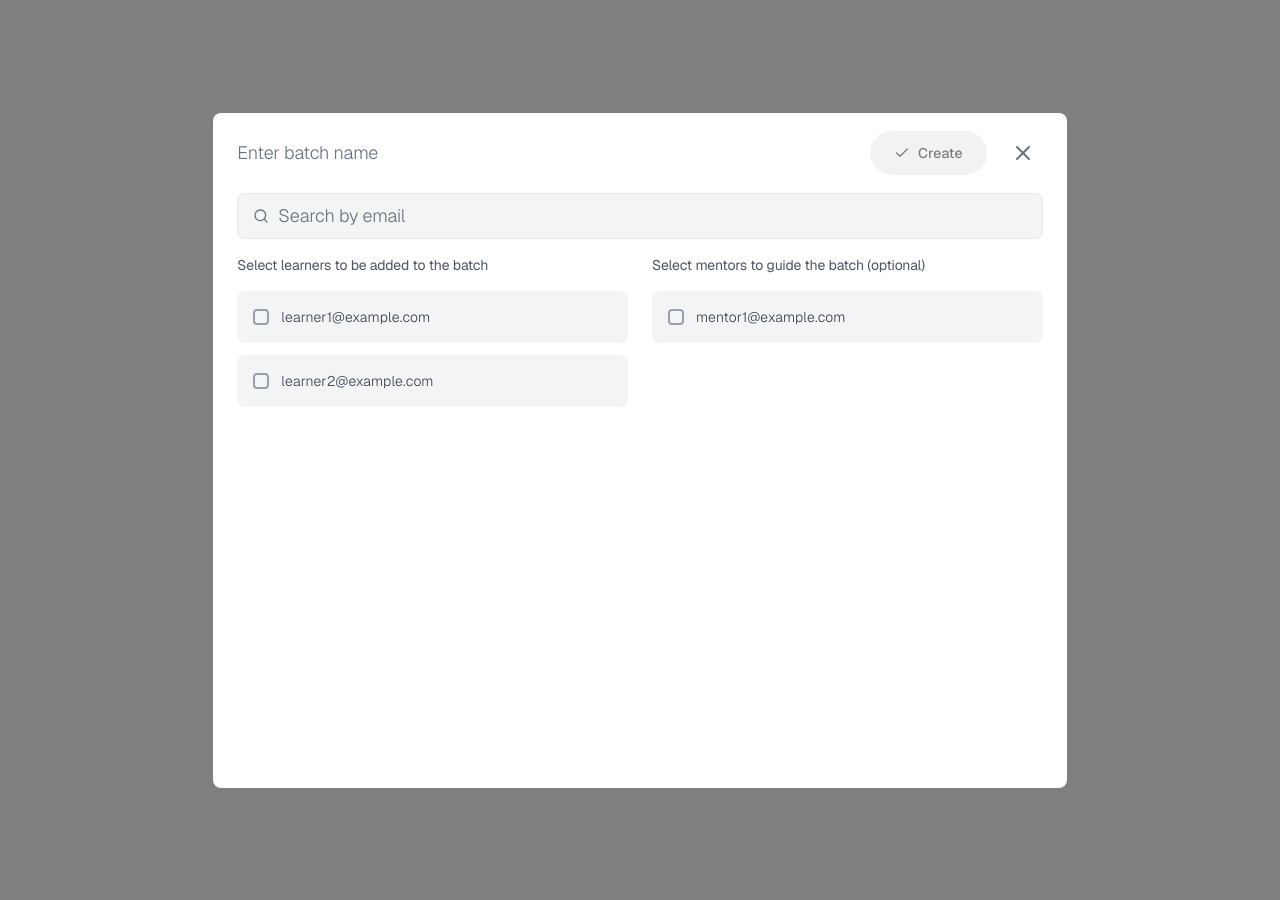
Test: CreateBatchDialog › should select all and deselect all learners
The width and height of the screenshot is (1280, 900).
Note: Select the first learner so that the select-all checkbox becomes visible (it should be unchecked initially)
Click the 1st checkbox at (261, 316), box 253,308 -> 269,324
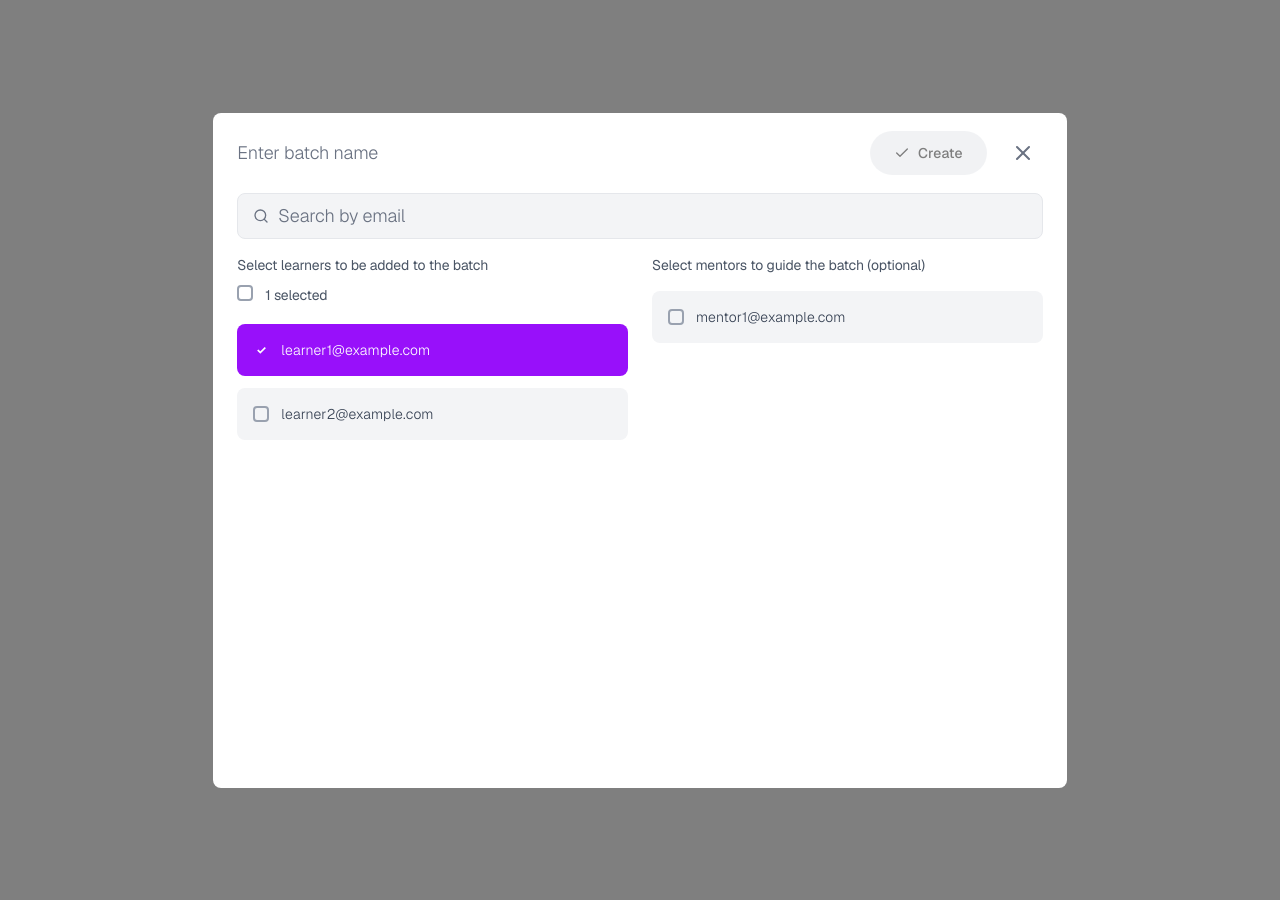
Note: Click select-all to select all learners
Click the checkbox in the row of "selected" at (245, 292), box 237,284 -> 253,300
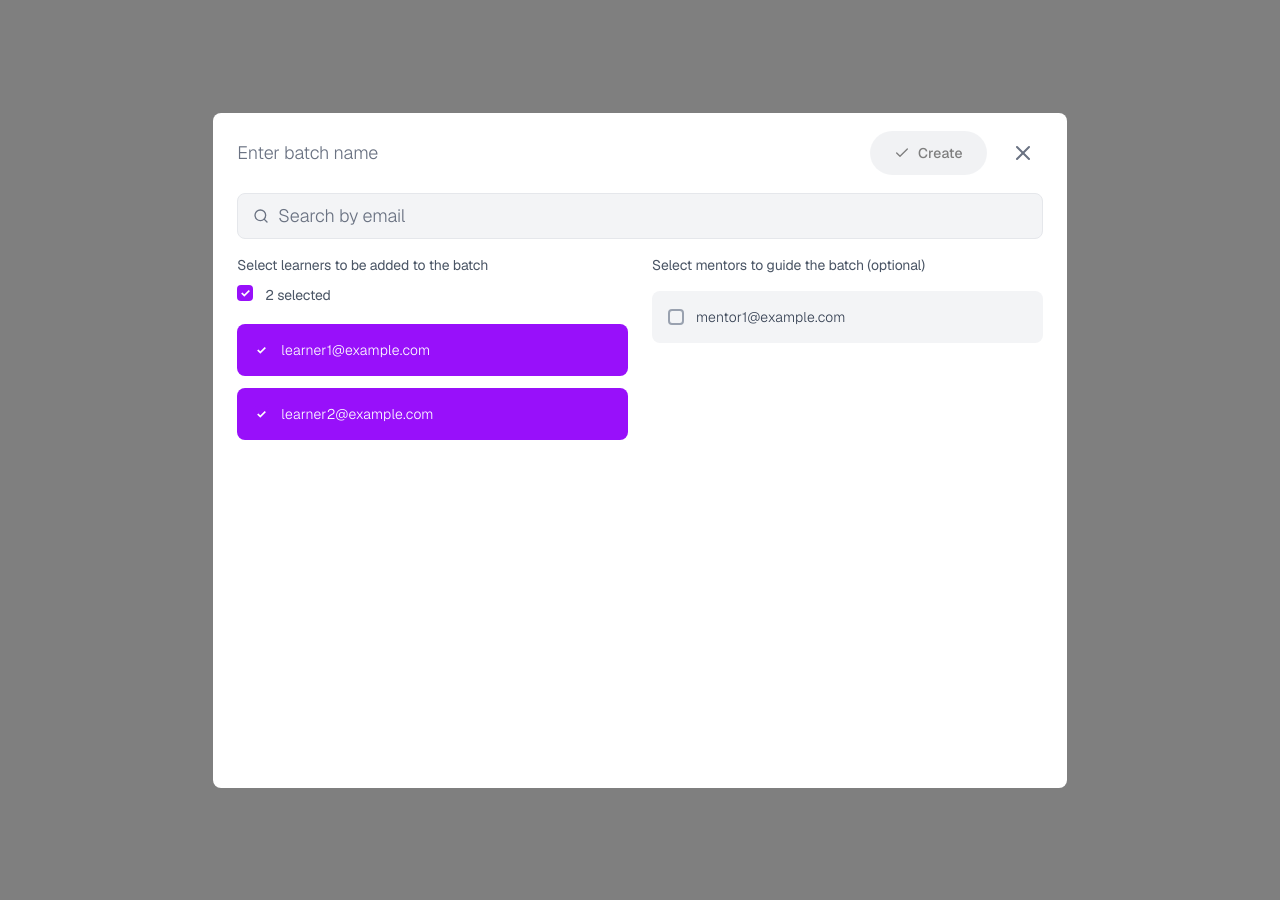
Check: the 3rd checkbox is checked, box 253,342 -> 269,358
Check: the checkbox in the row of "selected" is checked
Note: Now the select-all checkbox should be checked – click it again to deselect all
Click the checkbox in the row of "selected" at (245, 292), box 237,284 -> 253,300
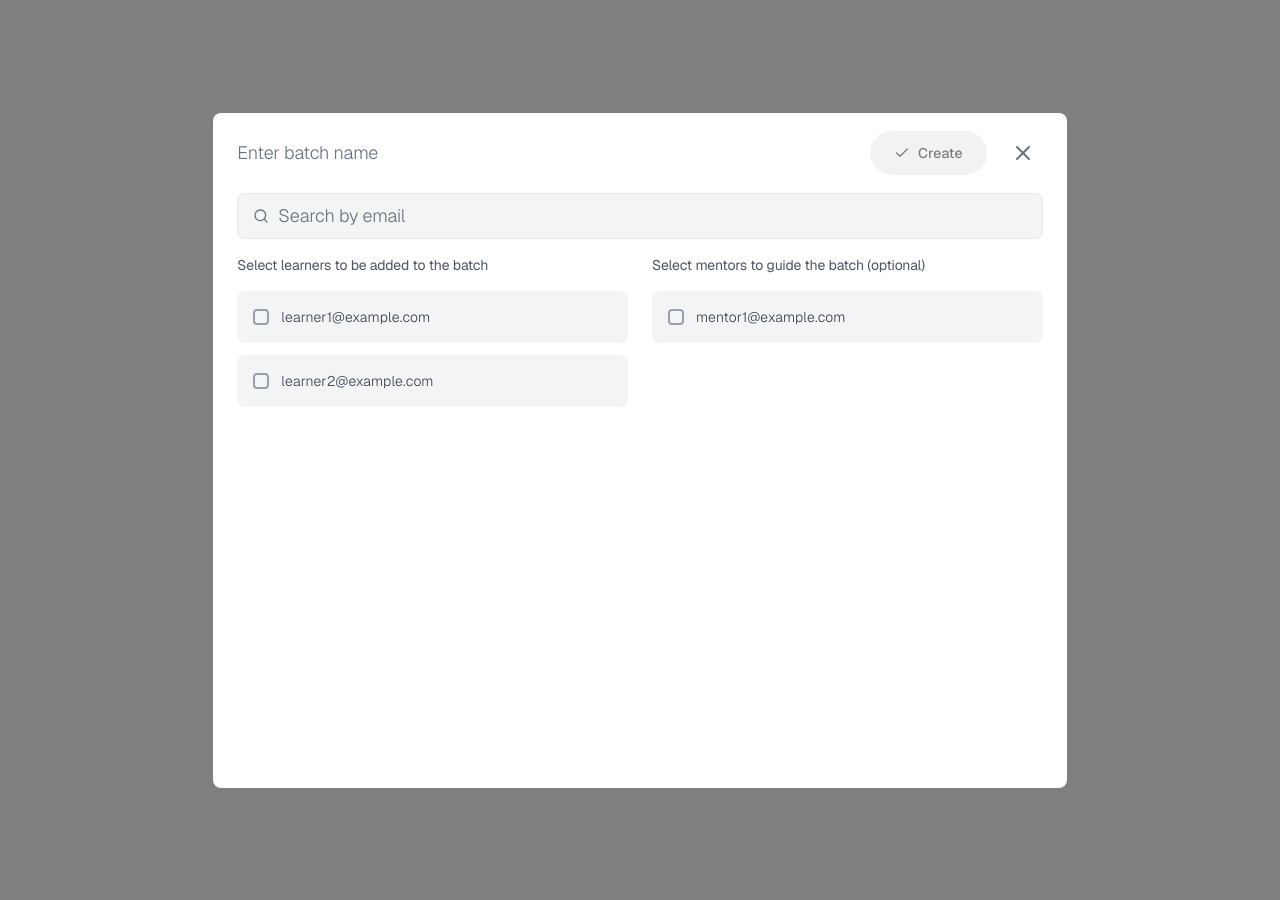
Check: the 1st checkbox is not checked, box 253,308 -> 269,324
Check: the 3rd checkbox is not checked, box 253,372 -> 269,388
